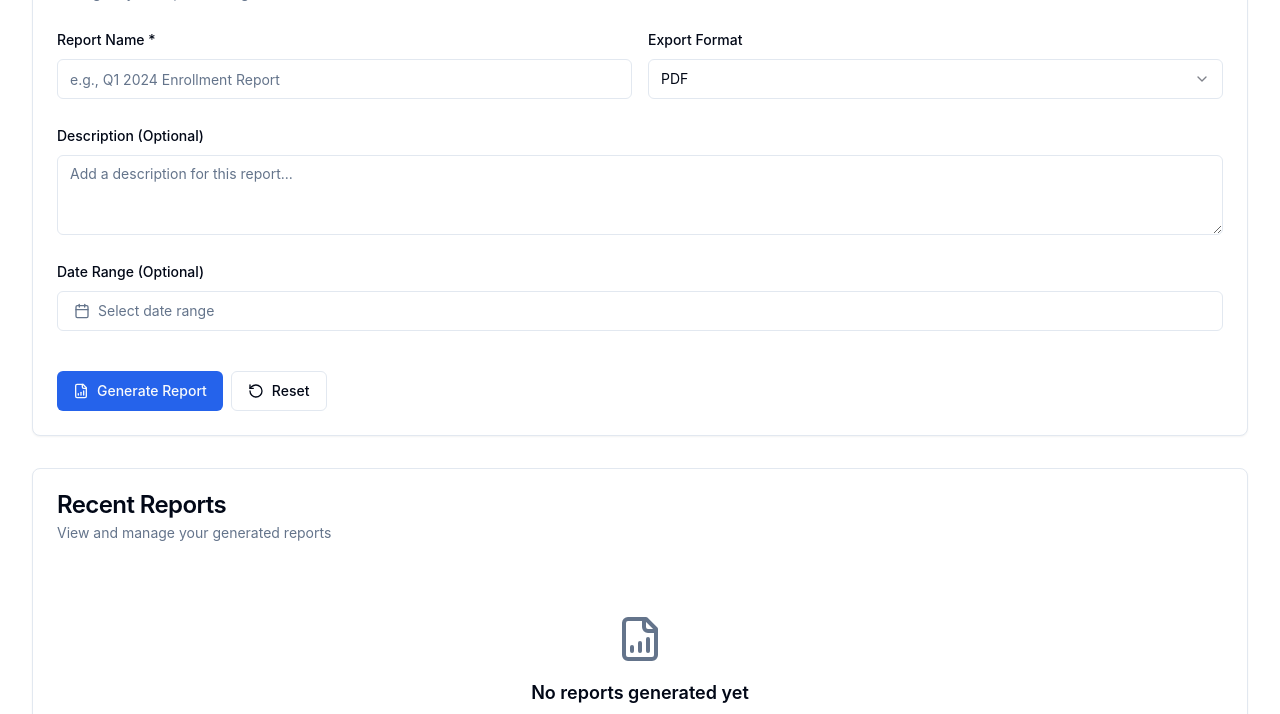
Test: ReportBuilderPage › Report Type Validation › should show error when generating report without selecting type
(page scrolled)
Expected: the field labelled "Report Name *" is shown, [57,59,632,99]
Click the button "Generate Report": (140, 391) [57,371,223,411]
(page scrolled)
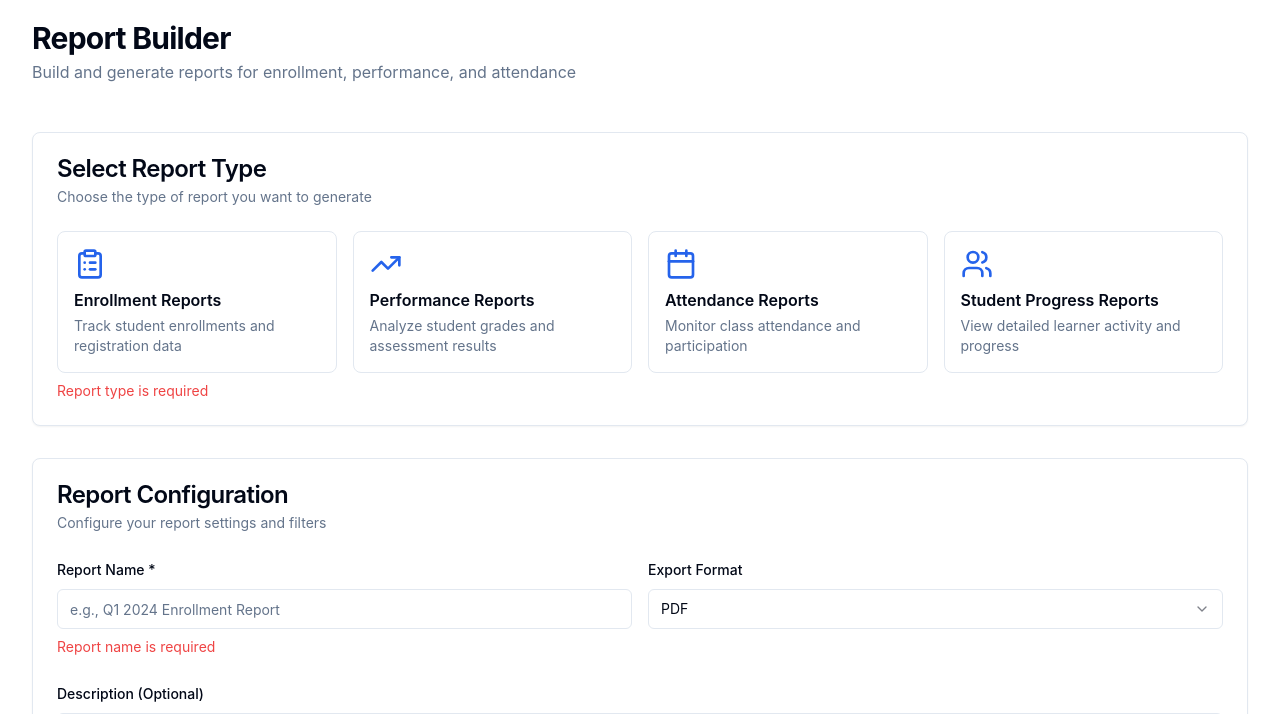
Now the text "Report type is required" is shown, box [57,382,208,399]
